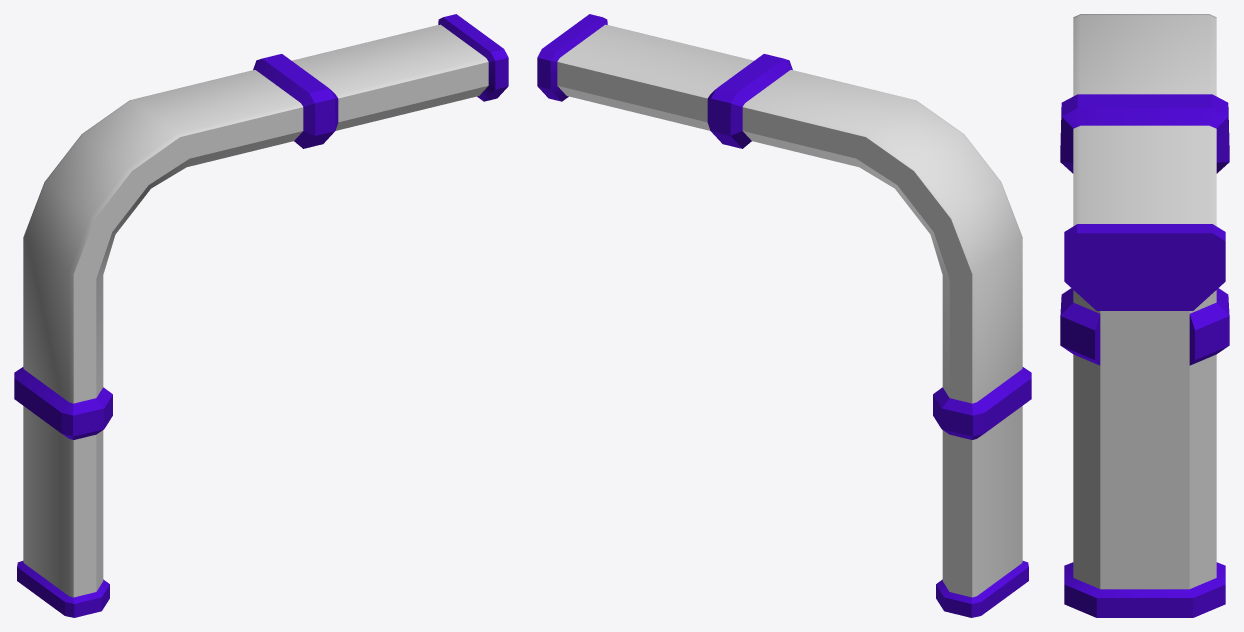
The model's file is BarrierFrame_Corner.FBX.
3 renders of one model, left to right at view 1: azimuth 30°, elevation 25°; view 2: azimuth 150°, elevation 25°; view 3: azimuth 270°, elevation 25°, orthographic. The views are drawn at different scales.
Visible parts, largest first — view 1: BarrierFrame_Corner; view 2: BarrierFrame_Corner; view 3: BarrierFrame_Corner.
Part boxes in pixels (x1,y1,x2,y2): BarrierFrame_Corner: [14, 14, 508, 617]; BarrierFrame_Corner: [537, 14, 1031, 617]; BarrierFrame_Corner: [1060, 14, 1229, 617].
Size of the model in its own units: 203 by 203 by 47.28.
